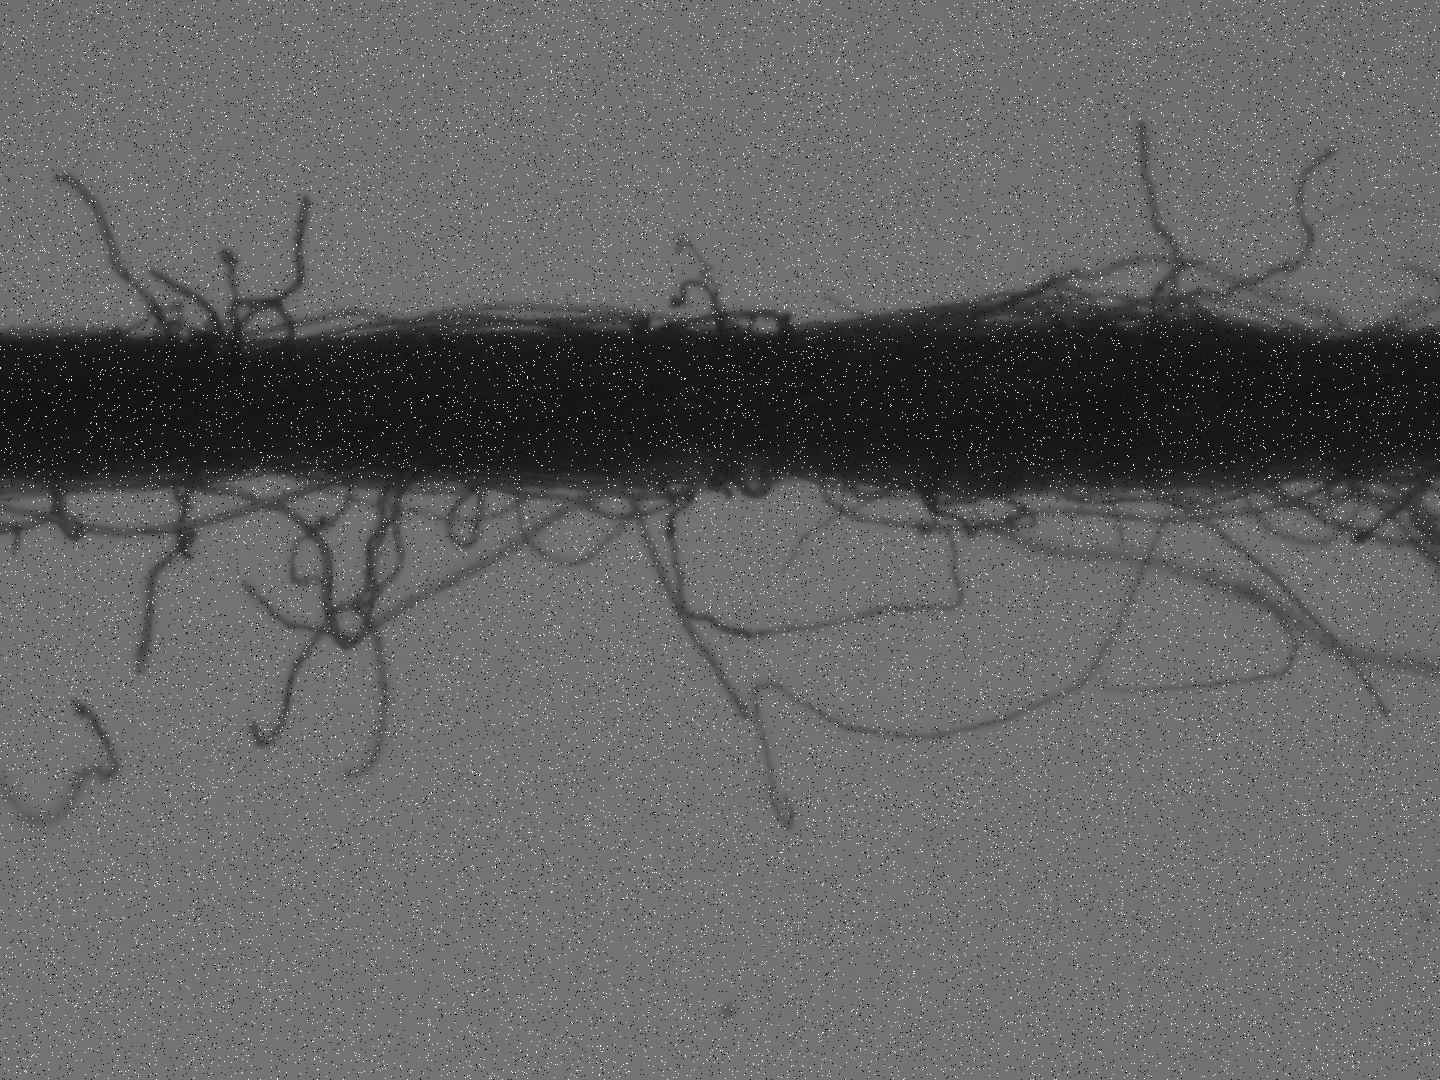loop_fiber: (667, 463, 967, 640), (963, 256, 1333, 335), (513, 474, 641, 565), (489, 471, 702, 523), (1239, 466, 1364, 542), (388, 299, 651, 334), (1147, 290, 1305, 332), (248, 304, 415, 339), (1146, 470, 1282, 508), (1253, 458, 1369, 504), (916, 488, 1020, 533), (645, 309, 785, 336), (234, 298, 296, 344), (725, 467, 783, 503), (836, 471, 899, 501), (128, 306, 185, 337)
protruding_fiber: (621, 480, 748, 725), (1175, 142, 1344, 314), (48, 166, 173, 336), (1135, 121, 1185, 313), (242, 196, 308, 337), (150, 269, 219, 340), (223, 251, 239, 343)
